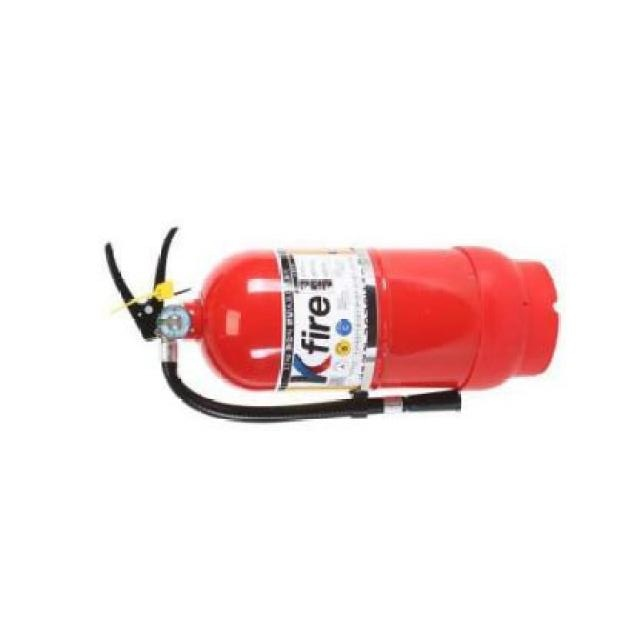fire extinguisher: (105, 227, 559, 424)
